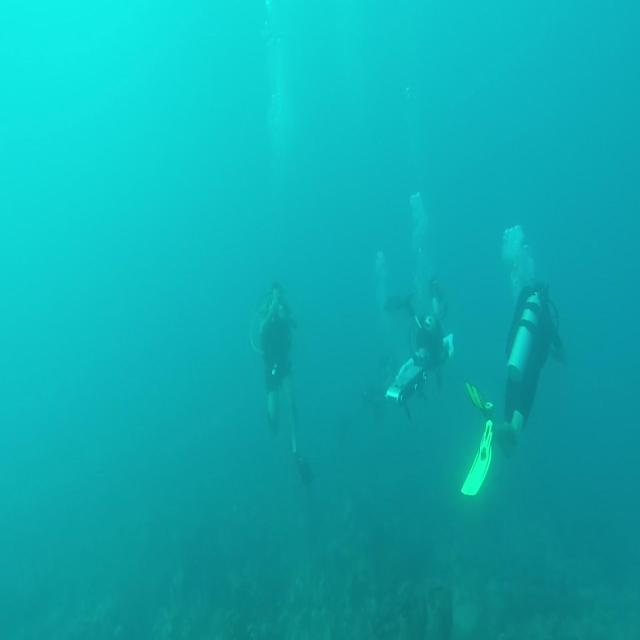human: (460, 223, 567, 498), (250, 279, 314, 485), (383, 276, 454, 421)
